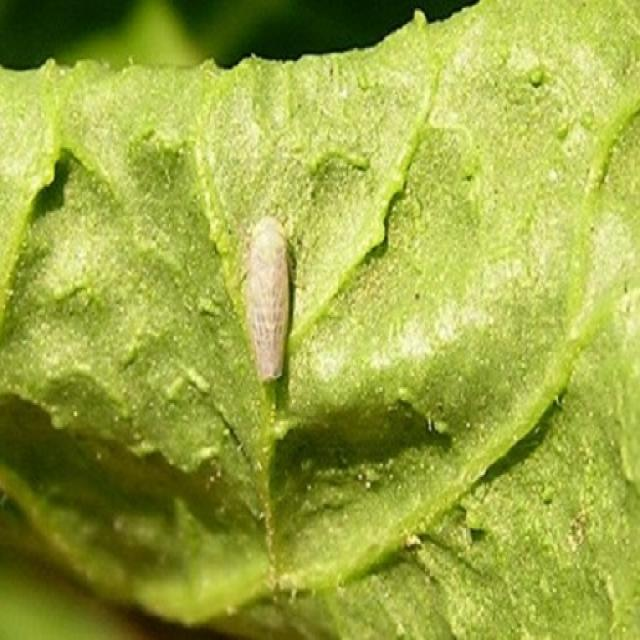Yechan: (239, 211, 301, 392)
